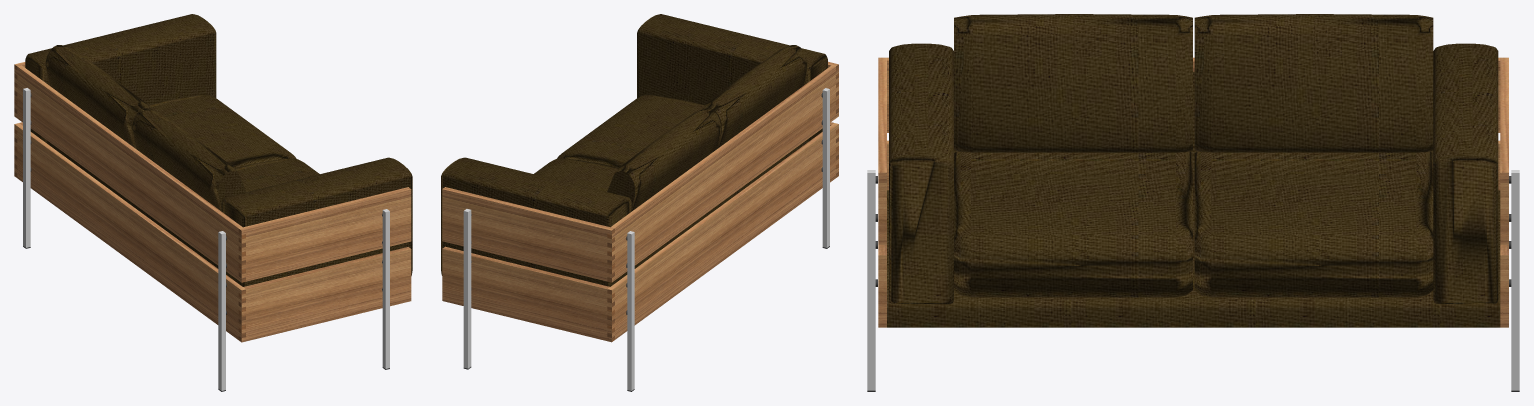
3 views of the same model, side by side, from view 1: azimuth 30°, elevation 25°; view 2: azimuth 150°, elevation 25°; view 3: azimuth 270°, elevation 25° (orthographic). The views are drawn at different scales.
Parts seen in each view (by area): view 1: Group1, Group2, Group10, Group9, Group11, Group14, Group12, Group13, Group4, Group5, Group3, Group7; view 2: Group1, Group2, Group9, Group10, Group12, Group13, Group11, Group14, Group6, Group5, Group4, Group7; view 3: Group14, Group13, Group12, Group11, Group8, Group10, Group9, Group1, Group3, Group6, Group2.
Boxes of the visible parts, x1,y1,x2,y2 form: Group1: (14, 62, 411, 282); Group2: (14, 122, 411, 342); Group10: (25, 14, 216, 143); Group9: (221, 157, 412, 286); Group11: (132, 108, 245, 211); Group14: (148, 94, 296, 168); Group12: (45, 45, 150, 148); Group13: (235, 158, 319, 191); Group4: (218, 231, 226, 391); Group5: (23, 88, 31, 248); Group3: (382, 209, 389, 369); Group7: (47, 141, 218, 268); Group1: (442, 61, 838, 282); Group2: (442, 122, 838, 342); Group9: (637, 14, 827, 143); Group10: (441, 157, 631, 286); Group12: (607, 108, 721, 210); Group13: (557, 94, 704, 168); Group11: (702, 45, 807, 148); Group14: (534, 158, 617, 191); Group6: (463, 209, 471, 369); Group5: (626, 231, 634, 391); Group4: (821, 88, 829, 248); Group7: (634, 141, 805, 268); Group14: (1194, 151, 1433, 297); Group13: (954, 151, 1192, 297); Group12: (1194, 14, 1433, 152); Group11: (954, 14, 1192, 152); Group8: (887, 190, 1500, 327); Group10: (1433, 43, 1498, 304); Group9: (889, 43, 953, 304); Group1: (878, 57, 1508, 244); Group3: (867, 170, 877, 391); Group6: (1509, 170, 1519, 391); Group2: (878, 140, 1508, 327).
Size of the model in its own units: 673 by 738 by 1507.
